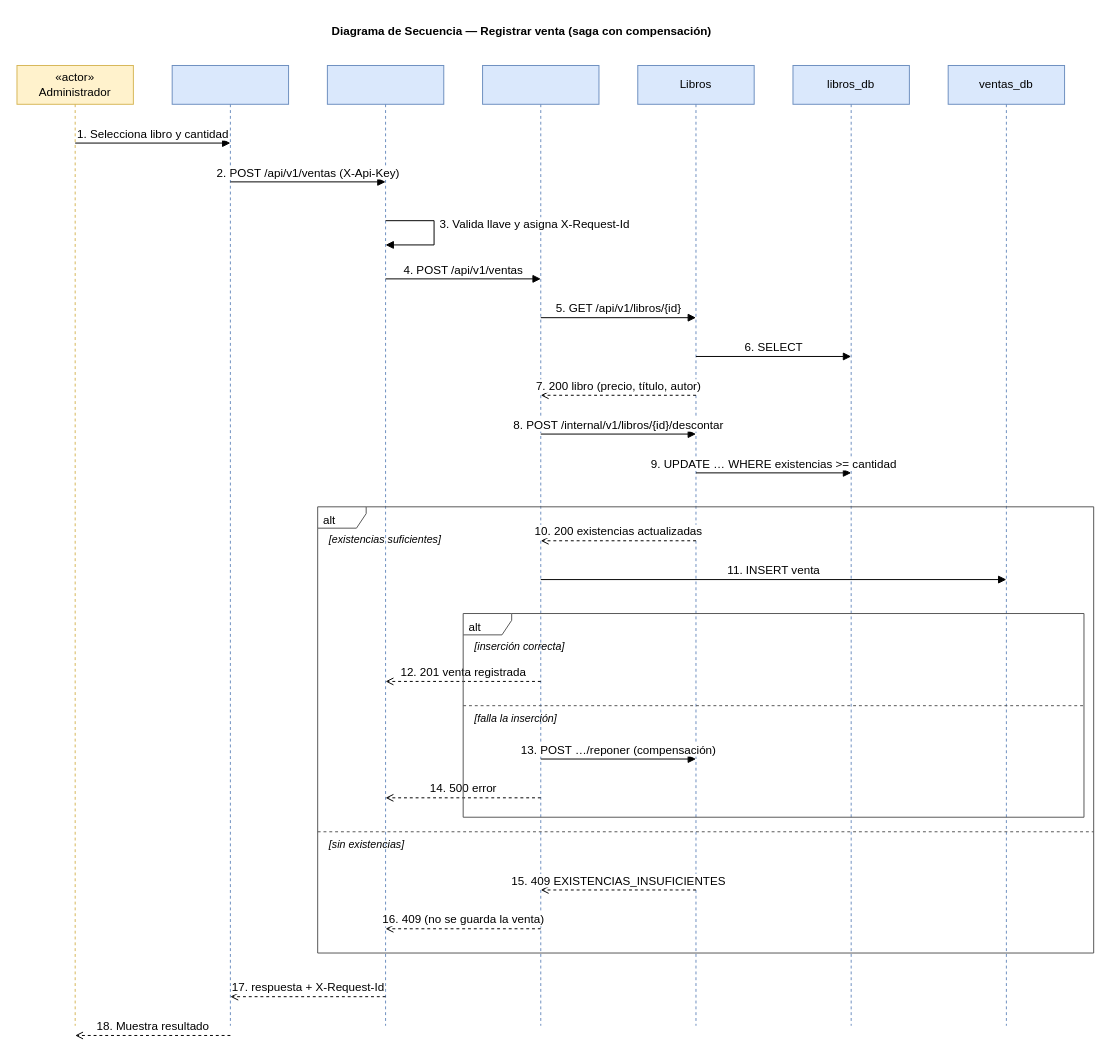
The diagram is 1112 pixels wide and 1060 high, and some of its shapes have lost their labels. Each missing label, with the box of its shape:
API Gateway: (326, 65, 444, 1026)
Frontend: (171, 65, 289, 1026)
Ventas: (482, 65, 599, 1026)
